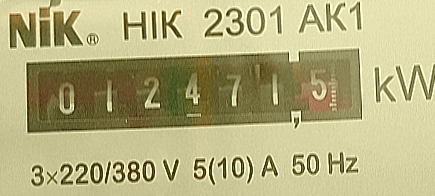0: (53, 78, 76, 115)
1: (101, 77, 114, 113), (267, 69, 278, 106)
2: (140, 73, 161, 110)
4: (181, 69, 201, 106)
5: (307, 63, 329, 101)
7: (221, 69, 242, 108)
screen: (14, 38, 373, 141)
